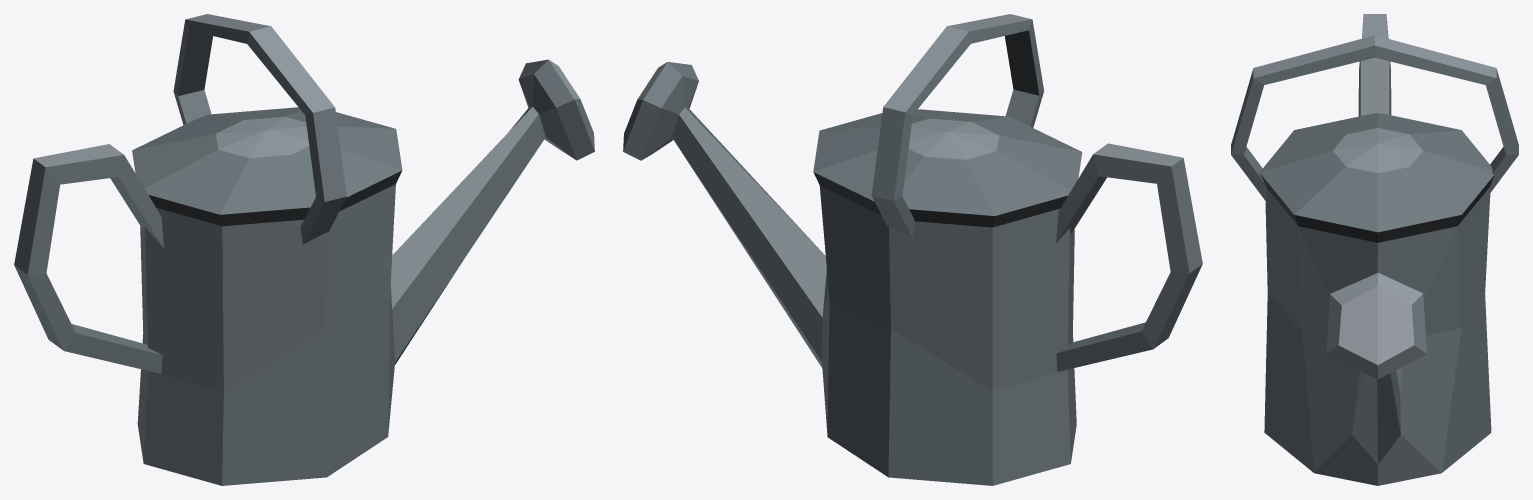
Rendered from SM_Item_WateringCan_01.fbx.
3 views of the same model, side by side, from view 1: azimuth 30°, elevation 25°; view 2: azimuth 150°, elevation 25°; view 3: azimuth 270°, elevation 25° (orthographic). The views are drawn at different scales.
Parts seen in each view (by area): view 1: SM_Item_WateringCan_01; view 2: SM_Item_WateringCan_01; view 3: SM_Item_WateringCan_01.
Boxes of the visible parts, x1,y1,x2,y2 form: SM_Item_WateringCan_01: (14,14,594,485); SM_Item_WateringCan_01: (623,14,1202,485); SM_Item_WateringCan_01: (1231,14,1518,485).
Bounding box in the file's own units: 82.75 × 57.17 × 38.36.
